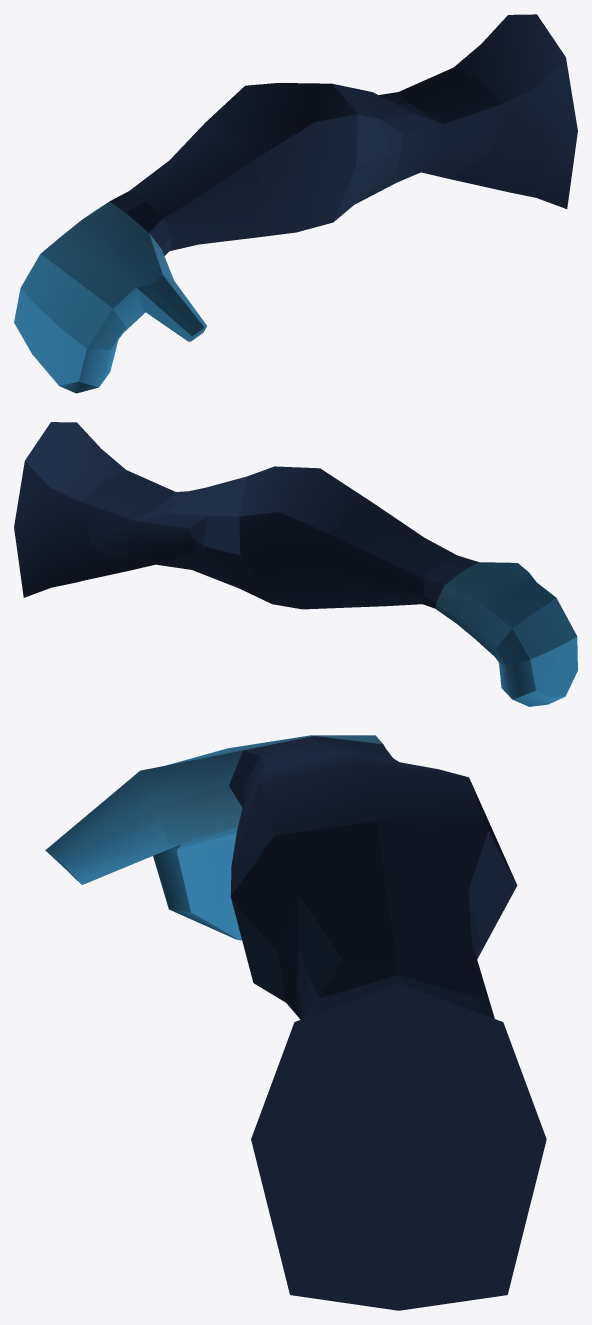
File: apeArmRBound.fbx
3 renders of one model, top to bottom at view 1: azimuth 30°, elevation 25°; view 2: azimuth 150°, elevation 25°; view 3: azimuth 270°, elevation 25°, orthographic. The views are drawn at different scales.
Parts seen in each view (by area): view 1: polySurface1; view 2: polySurface1; view 3: polySurface1.
Boxes of the visible parts, bbox=[...] form: polySurface1: bbox=[14, 14, 577, 393]; polySurface1: bbox=[14, 422, 577, 706]; polySurface1: bbox=[45, 735, 546, 1310].
Size of the model in its own units: 1162 by 466 by 527.
